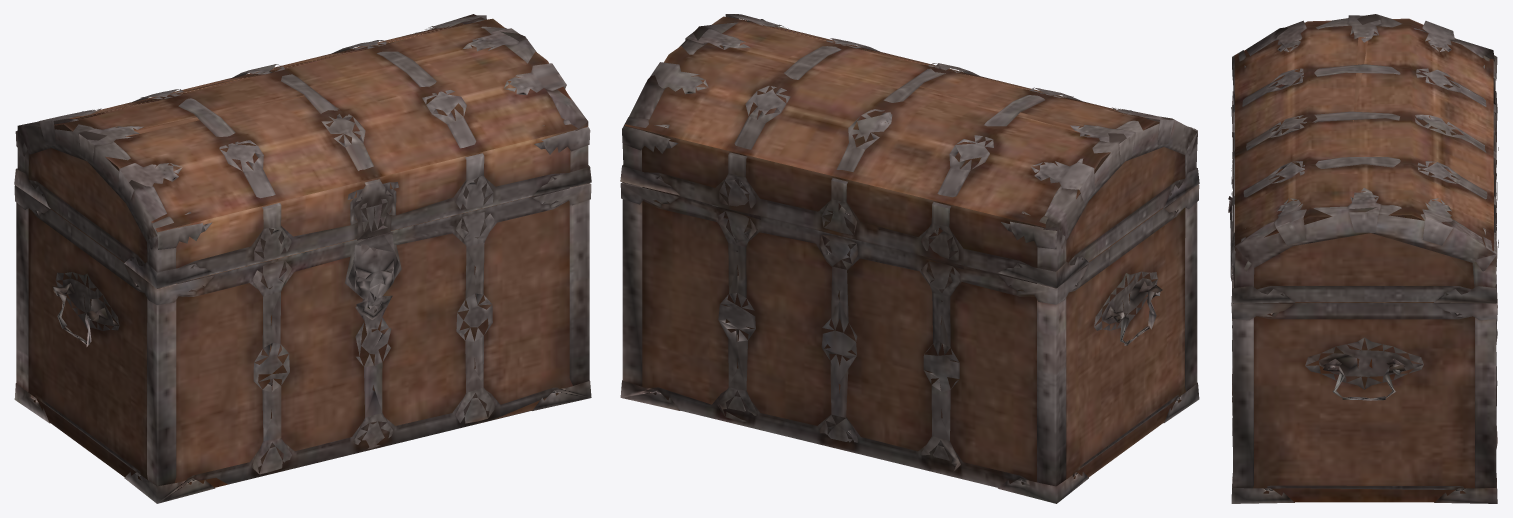
File: prop_chest_01.glb
3 views of the same model, side by side, from view 1: azimuth 30°, elevation 25°; view 2: azimuth 150°, elevation 25°; view 3: azimuth 270°, elevation 25° (orthographic). The views are drawn at different scales.
Visible parts, largest first — view 1: prop_chest_01; view 2: prop_chest_01; view 3: prop_chest_01.
Boxes of the visible parts, x1,y1,x2,y2 form: prop_chest_01: [14, 14, 591, 503]; prop_chest_01: [620, 14, 1199, 503]; prop_chest_01: [1228, 14, 1498, 503].
Bounding box in the file's own units: 0.9575 × 0.6183 × 0.5183.
Materials: 1 (1 with a texture image).
